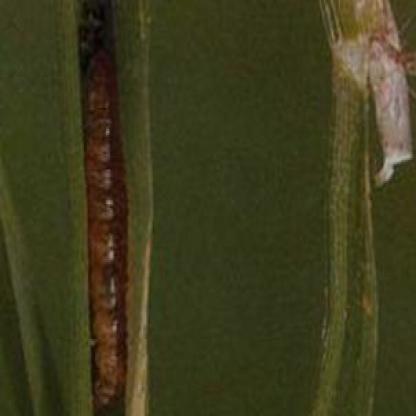leaf-folder: (53, 13, 142, 395)
